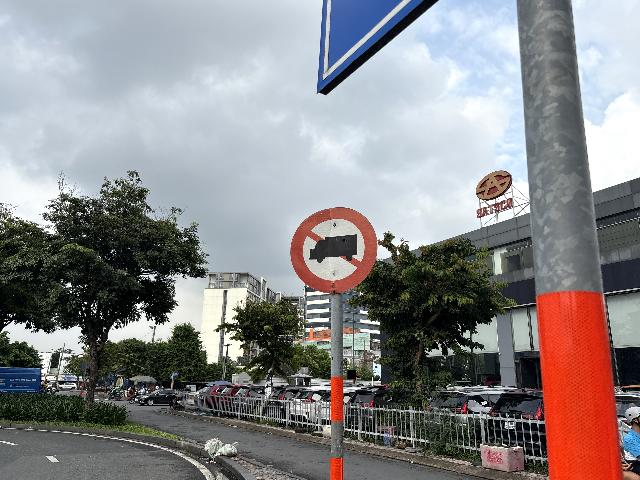cam-xe-tai: (290, 207, 378, 294)
